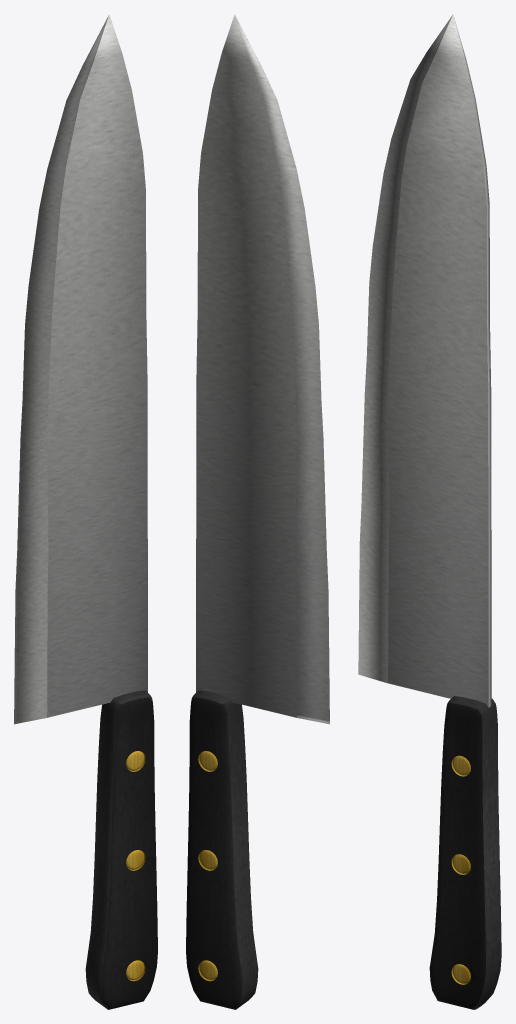
File: Knife.FBX
3 views of the same model, side by side, from view 1: azimuth 30°, elevation 25°; view 2: azimuth 150°, elevation 25°; view 3: azimuth 330°, elevation 25° (orthographic).
Parts seen in each view (by area): view 1: Knife; view 2: Knife; view 3: Knife.
Boxes of the visible parts, box(x1,y1,x2,y2) form: Knife: box(14, 14, 157, 1009); Knife: box(186, 14, 329, 1009); Knife: box(358, 14, 501, 1009).
Bounding box in the file's own units: 54.08 × 371 × 12.63.
Materials: 3 (3 with a texture image).
